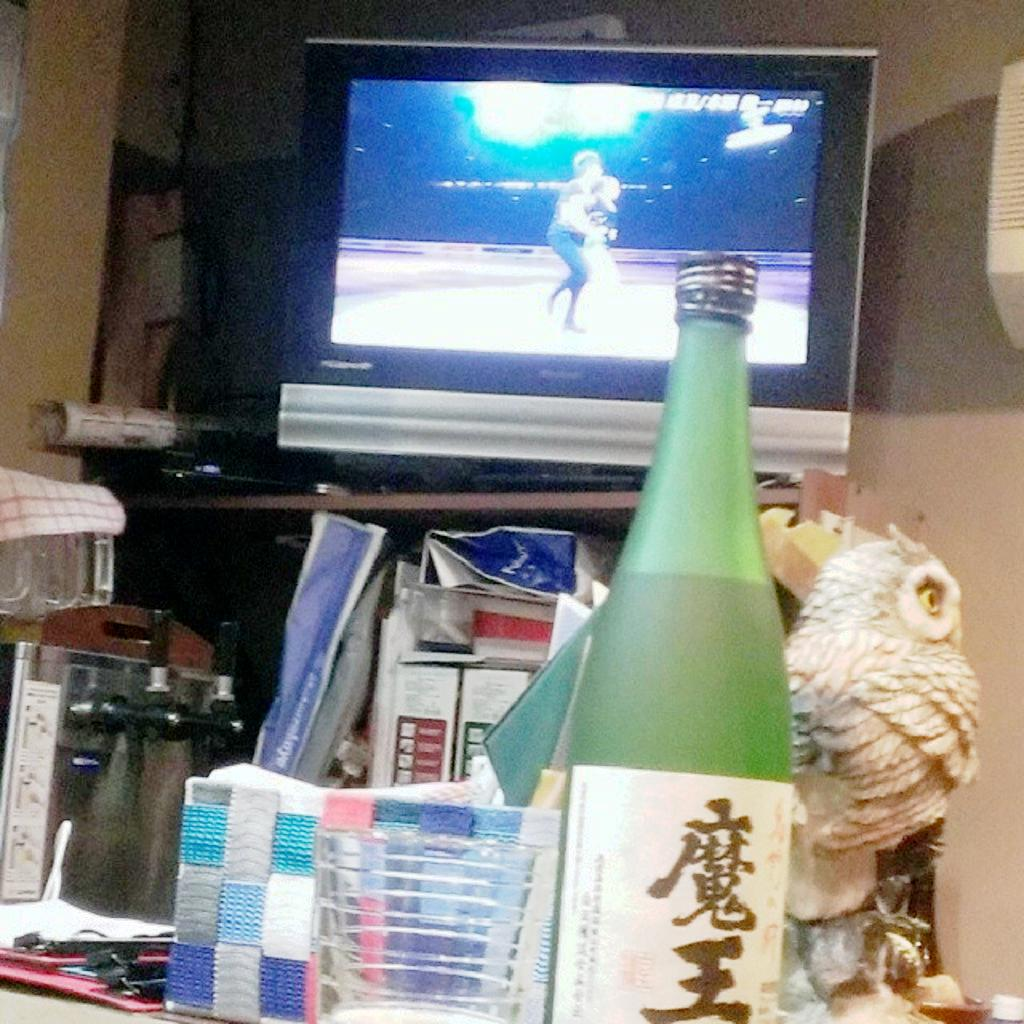Owl: (765, 550, 984, 950)
